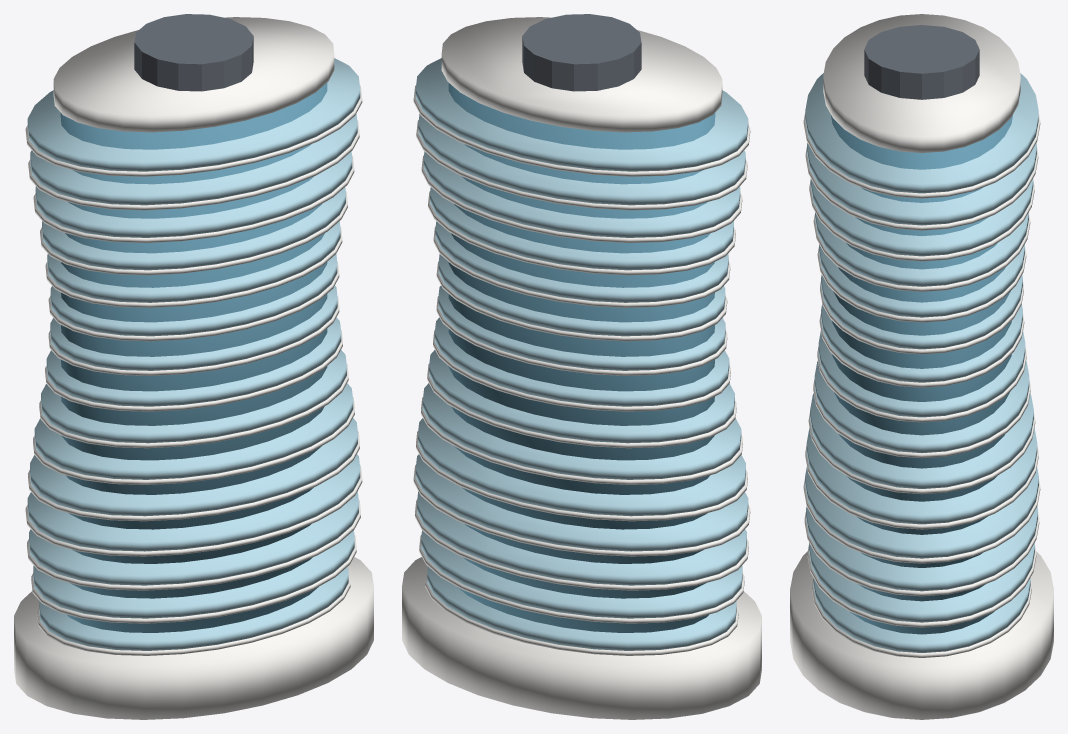
Rendered from Tower_CurvedGlass.fbx.
3 renders of one model, left to right at view 1: azimuth 30°, elevation 25°; view 2: azimuth 150°, elevation 25°; view 3: azimuth 270°, elevation 25°, orthographic. The views are drawn at different scales.
Visible parts, largest first — view 1: Cylinder.001, Cylinder, Cylinder.032, Cylinder.031, Cylinder.009, Cylinder.011, Cylinder.007, Cylinder.033, Cylinder.029, Cylinder.013, Cylinder.005, Cylinder.027 (+22 smaller); view 2: Cylinder.001, Cylinder, Cylinder.032, Cylinder.031, Cylinder.009, Cylinder.011, Cylinder.007, Cylinder.033, Cylinder.029, Cylinder.013, Cylinder.005, Cylinder.027 (+22 smaller); view 3: Cylinder.001, Cylinder, Cylinder.032, Cylinder.031, Cylinder.033, Cylinder.011, Cylinder.009, Cylinder.007, Cylinder.013, Cylinder.029, Cylinder.005, Cylinder.027 (+22 smaller).
Part boxes in pixels (bbox=[...]): Cylinder.001: bbox=[60, 83, 327, 632]; Cylinder: bbox=[14, 557, 373, 719]; Cylinder.032: bbox=[53, 17, 334, 132]; Cylinder.031: bbox=[27, 58, 360, 171]; Cylinder.009: bbox=[27, 454, 360, 551]; Cylinder.011: bbox=[30, 418, 357, 516]; Cylinder.007: bbox=[29, 491, 358, 585]; Cylinder.033: bbox=[134, 14, 253, 91]; Cylinder.029: bbox=[30, 114, 357, 205]; Cylinder.013: bbox=[34, 383, 353, 479]; Cylinder.005: bbox=[33, 530, 354, 618]; Cylinder.027: bbox=[35, 151, 352, 237]; Cylinder.001: bbox=[448, 83, 715, 632]; Cylinder: bbox=[402, 557, 761, 719]; Cylinder.032: bbox=[441, 17, 722, 132]; Cylinder.031: bbox=[415, 58, 748, 171]; Cylinder.009: bbox=[415, 454, 748, 551]; Cylinder.011: bbox=[418, 418, 745, 516]; Cylinder.007: bbox=[417, 491, 746, 585]; Cylinder.033: bbox=[522, 14, 641, 91]; Cylinder.029: bbox=[418, 114, 745, 205]; Cylinder.013: bbox=[422, 383, 741, 479]; Cylinder.005: bbox=[421, 530, 742, 618]; Cylinder.027: bbox=[423, 151, 740, 237]; Cylinder.001: bbox=[831, 115, 1012, 634]; Cylinder: bbox=[790, 551, 1053, 719]; Cylinder.032: bbox=[823, 14, 1020, 152]; Cylinder.031: bbox=[805, 73, 1038, 193]; Cylinder.033: bbox=[864, 25, 979, 99]; Cylinder.011: bbox=[806, 428, 1037, 524]; Cylinder.009: bbox=[805, 467, 1038, 558]; Cylinder.007: bbox=[806, 506, 1037, 591]; Cylinder.013: bbox=[810, 393, 1033, 488]; Cylinder.029: bbox=[807, 143, 1036, 225]; Cylinder.005: bbox=[809, 542, 1034, 622]; Cylinder.027: bbox=[810, 178, 1033, 256].
Size of the model in its own units: 33.35 by 58.9 by 23.78.
